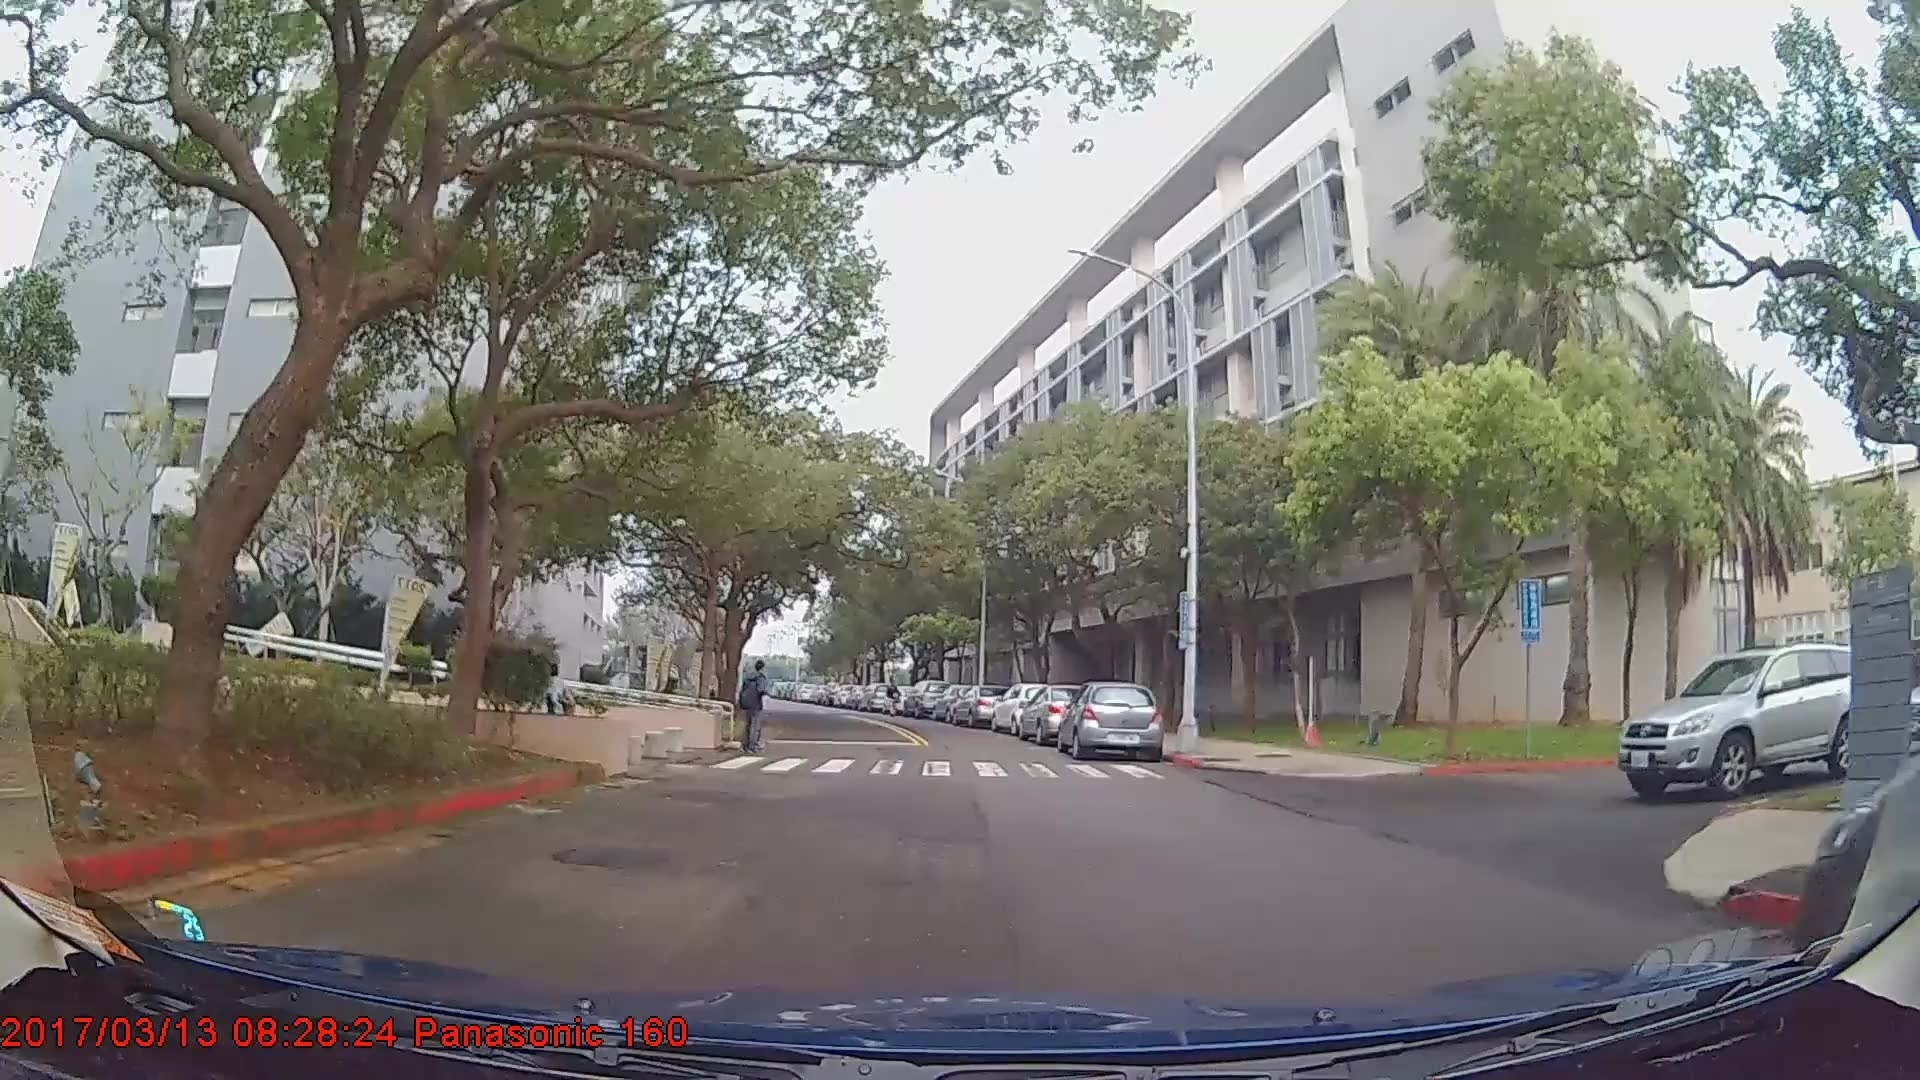pedestrian: (738, 659, 778, 759), (543, 664, 579, 752), (884, 676, 904, 719)
vehicle: (1615, 637, 1877, 800), (1055, 679, 1170, 764), (1014, 682, 1099, 746), (991, 682, 1061, 735), (948, 683, 1010, 730), (902, 679, 954, 718)
